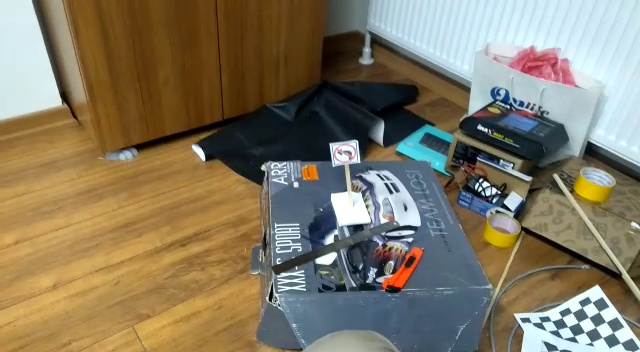sola_donulmez: (331, 140, 358, 166)
